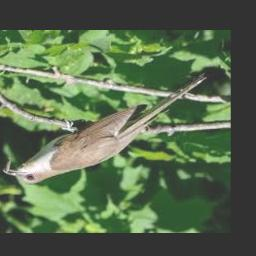Cuckoo: (4, 73, 207, 185)
